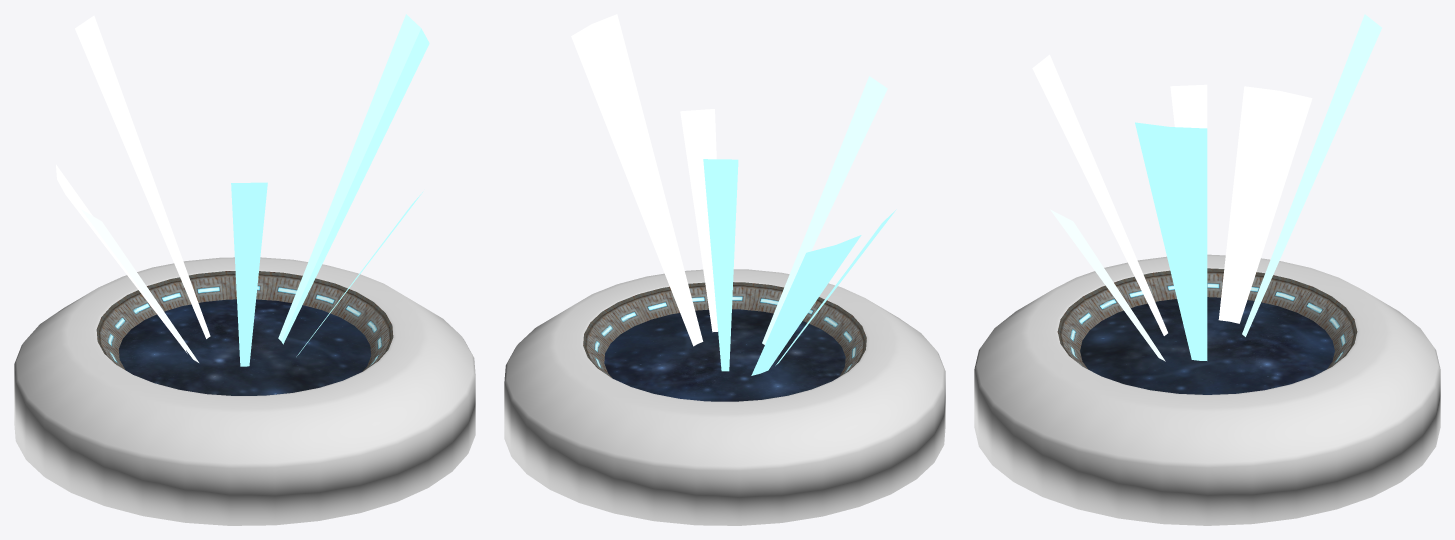
File: Hologram emitter.fbx
3 renders of one model, left to right at view 1: azimuth 30°, elevation 25°; view 2: azimuth 150°, elevation 25°; view 3: azimuth 270°, elevation 25°, orthographic. The views are drawn at different scales.
Parts seen in each view (by area): view 1: Cylinder.042_3, Cone_0; view 2: Cylinder.042_3, Cone_0; view 3: Cylinder.042_3, Cone_0.
Boxes of the visible parts, box(x1,y1,x2,y2) form: Cylinder.042_3: box(14, 257, 475, 525); Cone_0: box(56, 14, 429, 366); Cylinder.042_3: box(504, 269, 945, 525); Cone_0: box(571, 14, 896, 375); Cylinder.042_3: box(974, 254, 1440, 525); Cone_0: box(1032, 14, 1381, 361).
Size of the model in its own units: 34.12 by 30.56 by 34.12.
